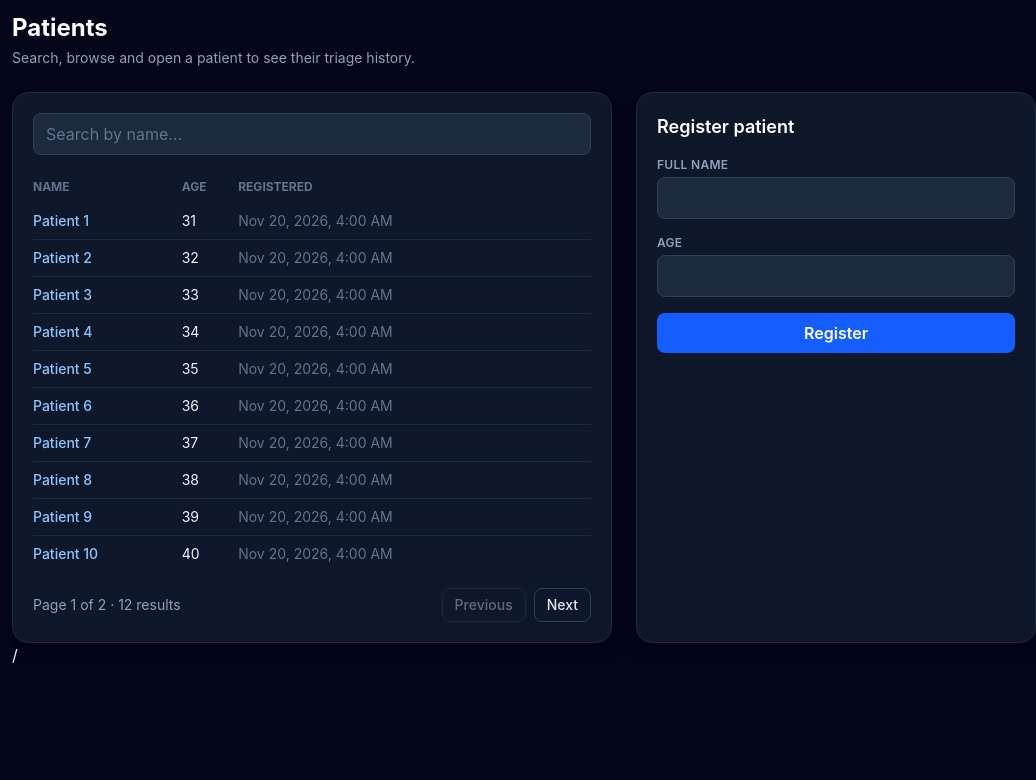
Test: PatientsPage › debounces the search and queries the API once
The image size is (1036, 780).
Expected: the text "Page 1 of 2 · 12 results" is shown, [33,595,181,615]
Type "zoe" into the search field with placeholder "Search by name…" at (312, 134), box [33,113,591,155]
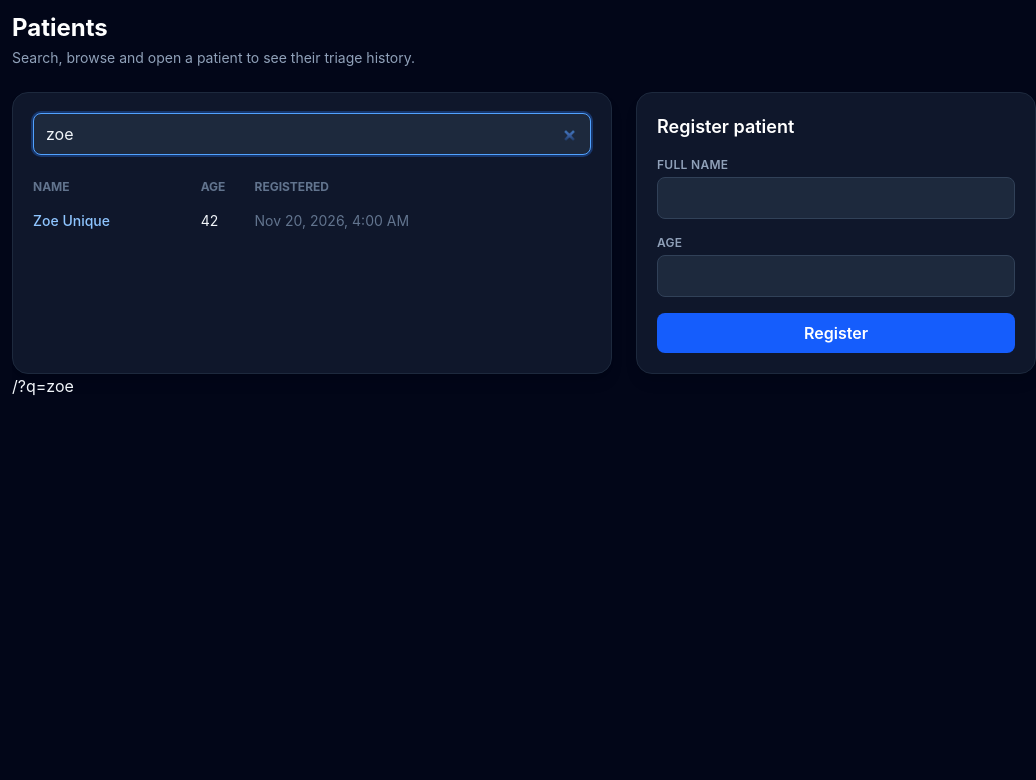
Now the number of rows is 2, box [33,171,591,203]; [33,203,591,239]
